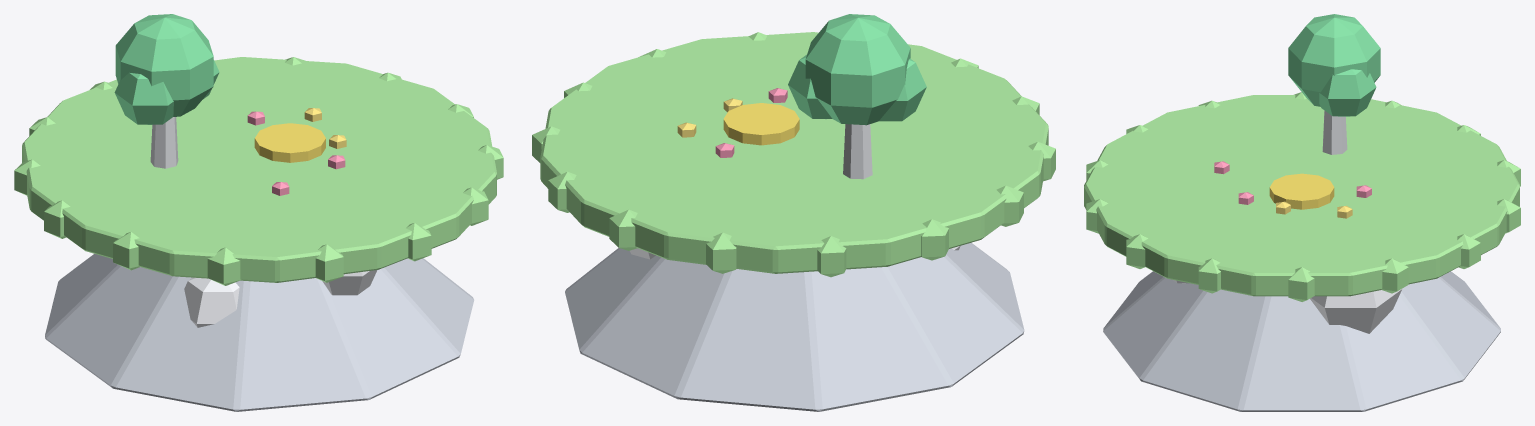
Rendered from CF_Island.fbx.
3 views of the same model, side by side, from view 1: azimuth 30°, elevation 25°; view 2: azimuth 150°, elevation 25°; view 3: azimuth 270°, elevation 25° (orthographic). The views are drawn at different scales.
Visible parts, largest first — view 1: CF_Island_Grass, CF_Island_Rock, CF_Island_Leaf, CF_Island_RockLight, CF_Island_Gold, CF_Island_Trunk, CF_Island_Flower; view 2: CF_Island_Grass, CF_Island_Rock, CF_Island_Leaf, CF_Island_Gold, CF_Island_Trunk, CF_Island_Flower; view 3: CF_Island_Grass, CF_Island_Rock, CF_Island_Leaf, CF_Island_RockLight, CF_Island_Gold, CF_Island_Trunk, CF_Island_Flower.
Boxes of the visible parts, x1,y1,x2,y2 form: CF_Island_Grass: [14, 57, 503, 285]; CF_Island_Rock: [45, 254, 474, 411]; CF_Island_Leaf: [114, 14, 219, 124]; CF_Island_RockLight: [184, 270, 377, 327]; CF_Island_Gold: [254, 123, 325, 162]; CF_Island_Trunk: [150, 117, 178, 168]; CF_Island_Flower: [247, 111, 345, 195]; CF_Island_Grass: [532, 32, 1055, 277]; CF_Island_Rock: [565, 242, 1024, 411]; CF_Island_Leaf: [788, 14, 926, 125]; CF_Island_Gold: [723, 103, 799, 145]; CF_Island_Trunk: [843, 124, 872, 179]; CF_Island_Flower: [715, 88, 787, 157]; CF_Island_Grass: [1084, 92, 1520, 301]; CF_Island_Rock: [1103, 271, 1500, 411]; CF_Island_Leaf: [1288, 14, 1380, 116]; CF_Island_RockLight: [1173, 280, 1402, 333]; CF_Island_Gold: [1269, 173, 1334, 209]; CF_Island_Trunk: [1322, 110, 1347, 154]; CF_Island_Flower: [1214, 161, 1371, 204].
Size of the model in its own units: 27.58 by 22.4 by 26.98.
